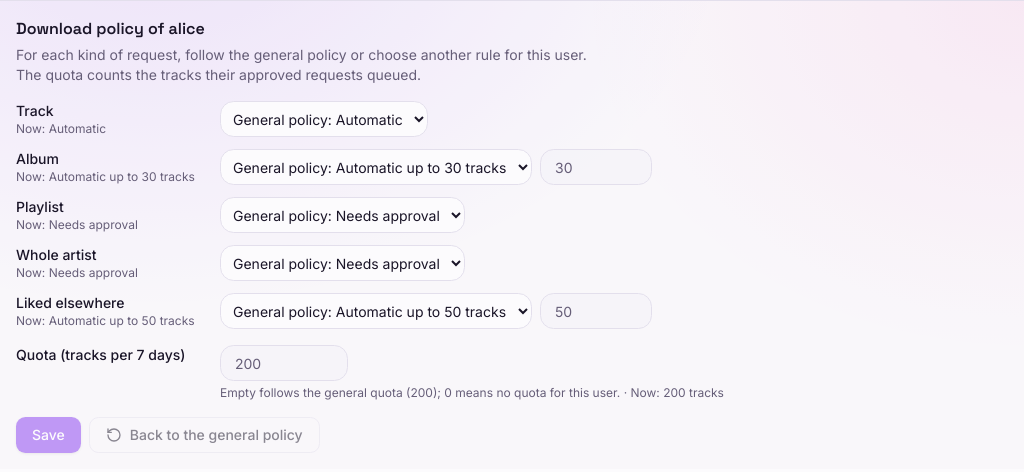
a user's download policy › saves only what was changed: a mode and threshold for one kind and the quota
Select "Automatic up to a limit" in the dropdown named "Rule for Playlist requests": (342, 215) [220,197,465,233]
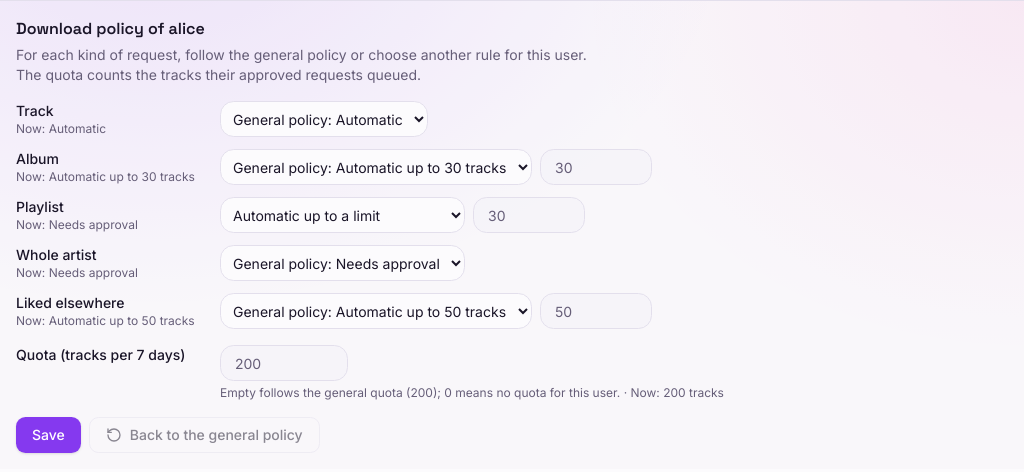
In the number field with placeholder "30" in the row of "Playlist": (529, 215) [473,197,585,233], type "7"
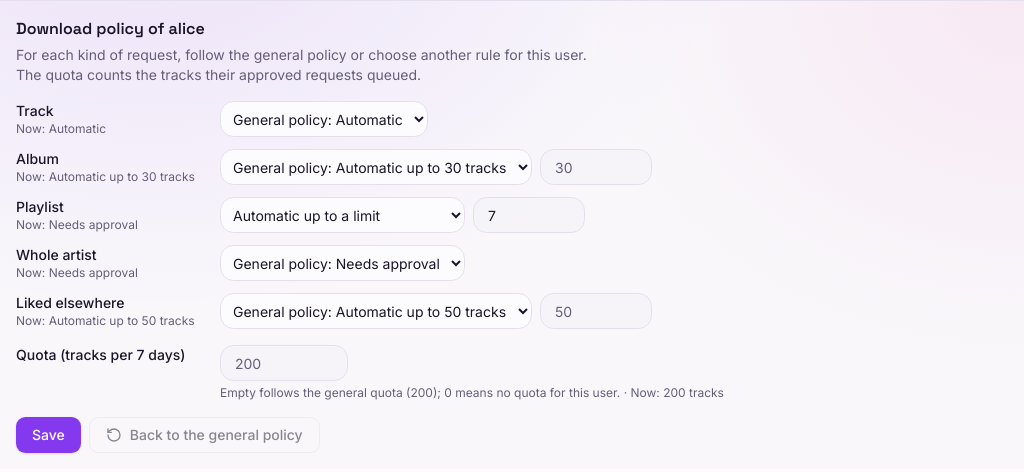
In the number field labelled "Quota (tracks per 7 days)": (284, 363) [220,345,348,381], type "9"
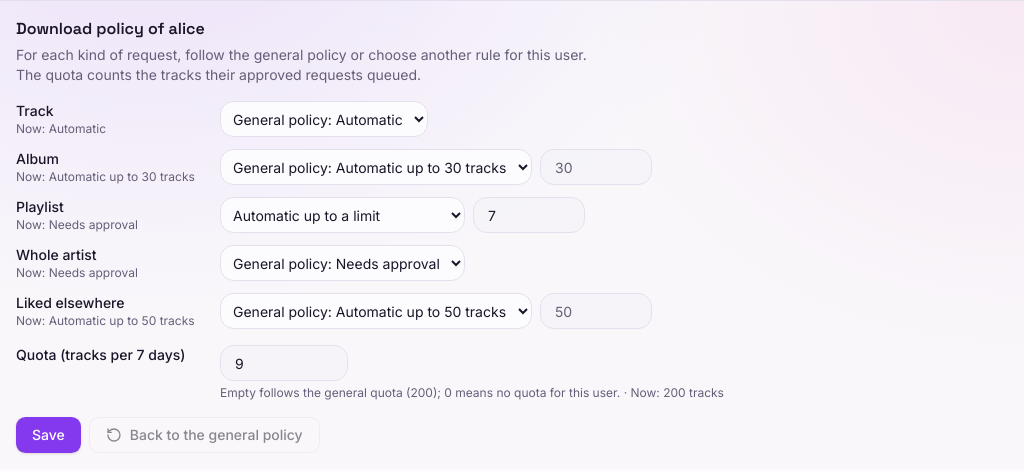
Click the button "Save": (48, 435) [16,417,81,453]
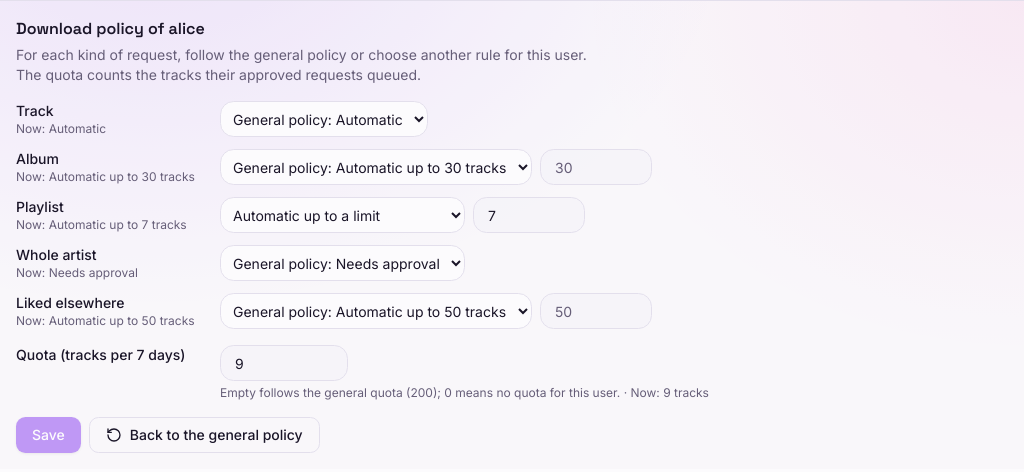
Expected: the text "Now: Automatic up to 7 tracks" is shown, [16,217,208,233]
Expected: the text "Now: 9 tracks" is shown, [630,385,709,400]
Expected: the button "Save" is disabled, [16,417,81,453]
